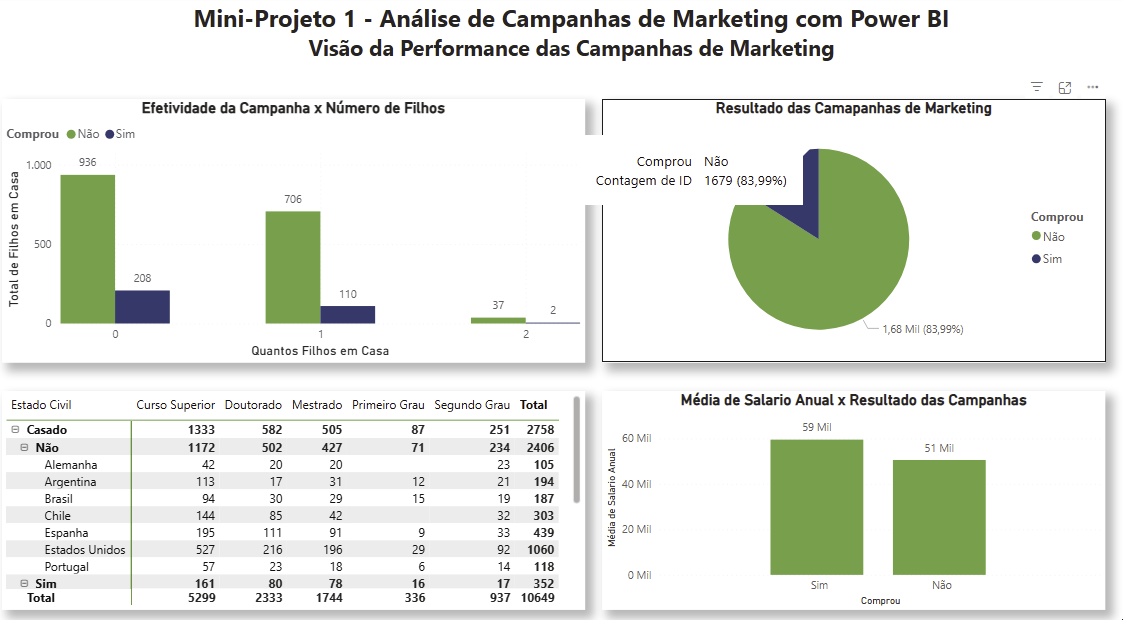

This screenshot's page, from the dashboard's own definition file:
{"tool":"powerbi","page":{"name":"Visão Campanha","canvas":[1280,720],"ordinal":2},"visuals":[{"type":"textbox","box":[10.8,0,1269.2,99.3],"z":0},{"type":"pieChart","title":"Resultado das Camapanhas de Marketing","fields":{"Category":["DadosMarketing.Comprou"],"Y":["CountNonNull(DadosMarketing.ID)"]},"box":[679.9,114.4,561.2,293.6],"z":1},{"type":"clusteredColumnChart","title":"Média de Salario Anual x Resultado das Campanhas","fields":{"Category":["DadosMarketing.Comprou"],"Y":["Avg(DadosMarketing.Salario Anual)"]},"box":[679.9,440.3,561.2,243.9],"z":2},{"type":"pivotTable","fields":{"Rows":["DadosMarketing.Estado Civil","DadosMarketing.Comprou","DadosMarketing.Pais"],"Values":["Sum(DadosMarketing.Numero Visitas WebSite Mes)"],"Columns":["DadosMarketing.Escolaridade"]},"box":[10.8,440.3,649.7,243.9],"z":3},{"type":"clusteredColumnChart","title":"Efetividade da Campanha x Número de Filhos","fields":{"Series":["DadosMarketing.Comprou"],"Y":["CountNonNull(DadosMarketing.Filhos em Casa)"],"Category":["DadosMarketing.Filhos em Casa"]},"box":[10.8,114.4,649.7,293.6],"z":4}]}

Visuals, with their boxes in screenshot pixels (x1, y1, x2, y2), scaled from the page's 1280x720 canvas onto the 1123x620 screenshot:
textbox: [9, 0, 1122, 86]
"Resultado das Camapanhas de Marketing" pieChart: [597, 99, 1089, 351]
"Média de Salario Anual x Resultado das Campanhas" clusteredColumnChart: [597, 379, 1089, 589]
pivotTable - DadosMarketing.Estado Civil x DadosMarketing.Comprou: [9, 379, 579, 589]
"Efetividade da Campanha x Número de Filhos" clusteredColumnChart: [9, 99, 579, 351]
